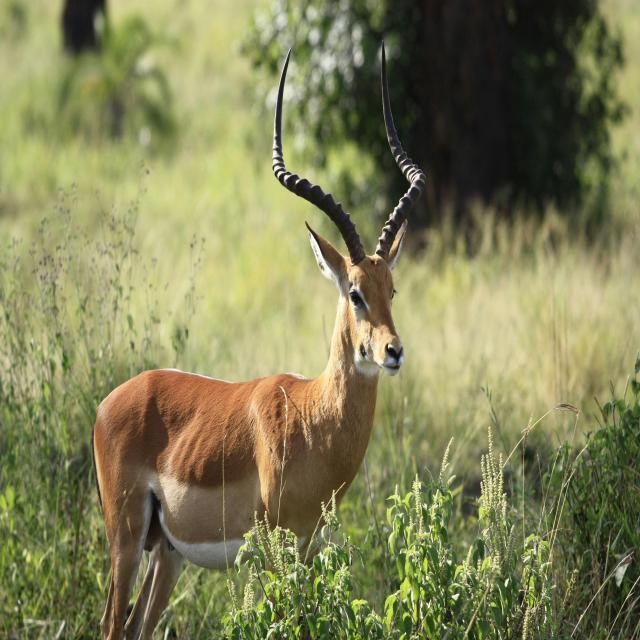Antelope: (94, 37, 427, 640)
